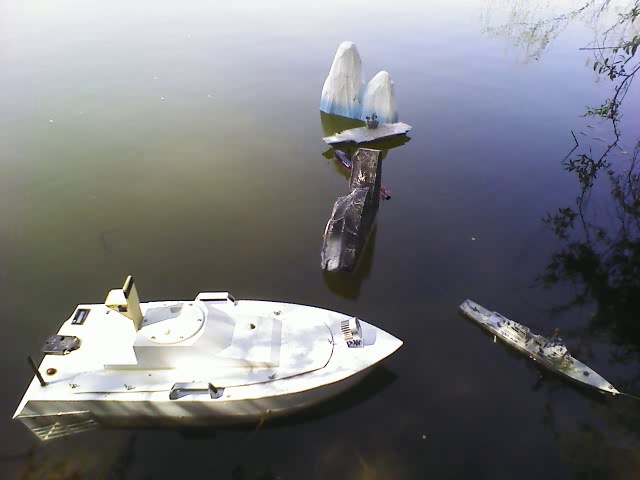aircraft_carrier: (321, 118, 419, 144)
boat: (25, 292, 402, 430)
iceberg: (317, 41, 407, 117)
rock: (322, 149, 387, 275)
submarine: (330, 145, 396, 199)
warship: (459, 297, 626, 397)
